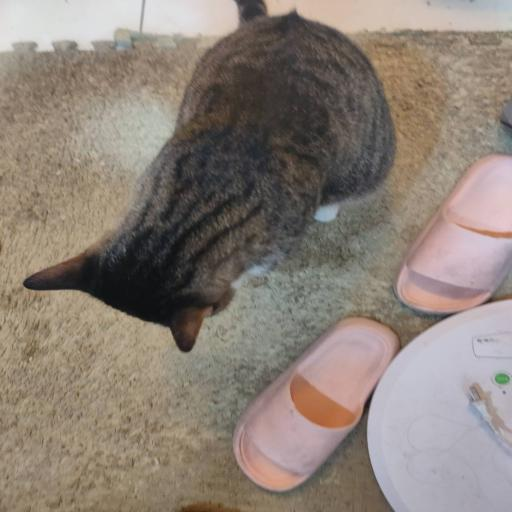cat: (85, 1, 359, 343)
